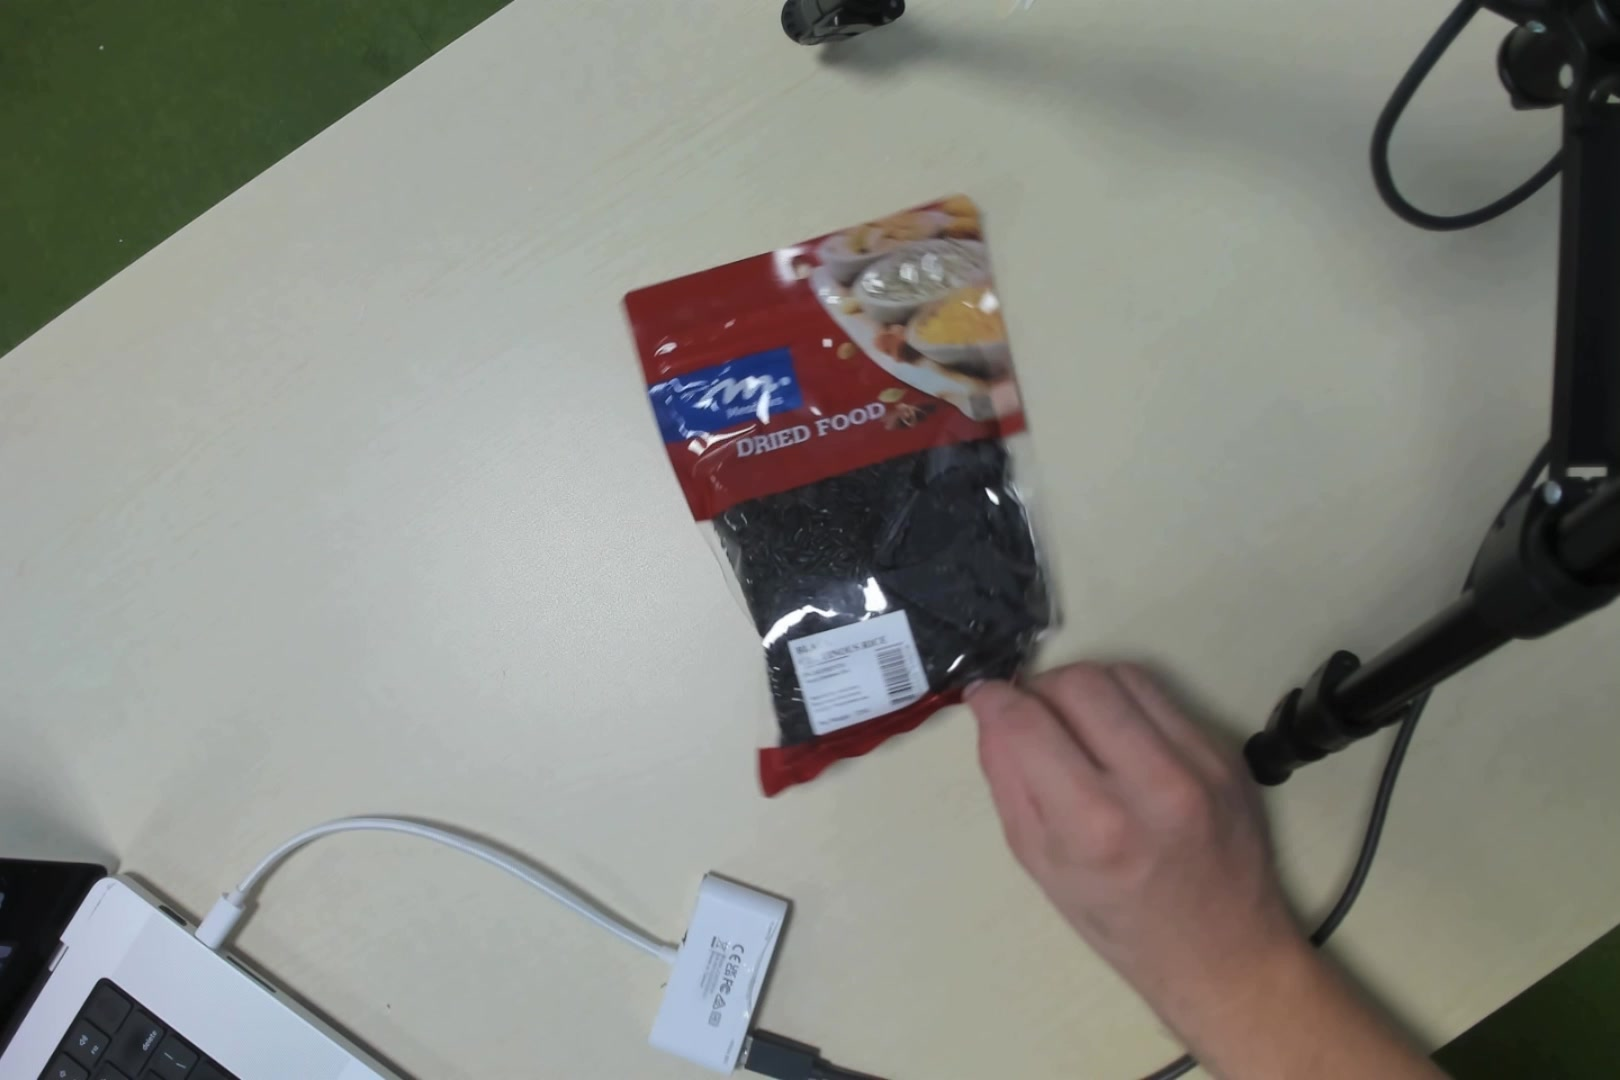OtherDriedFood_100-199g_NonHalal_NonHealthy: (704, 235, 1045, 771)
